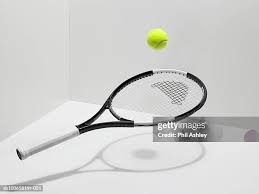tennis racket: (14, 69, 209, 162)
